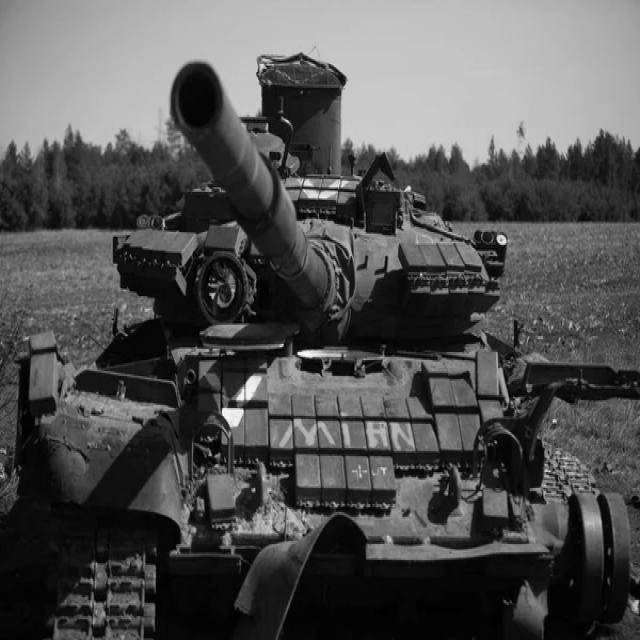Tank: (16, 41, 634, 629)
